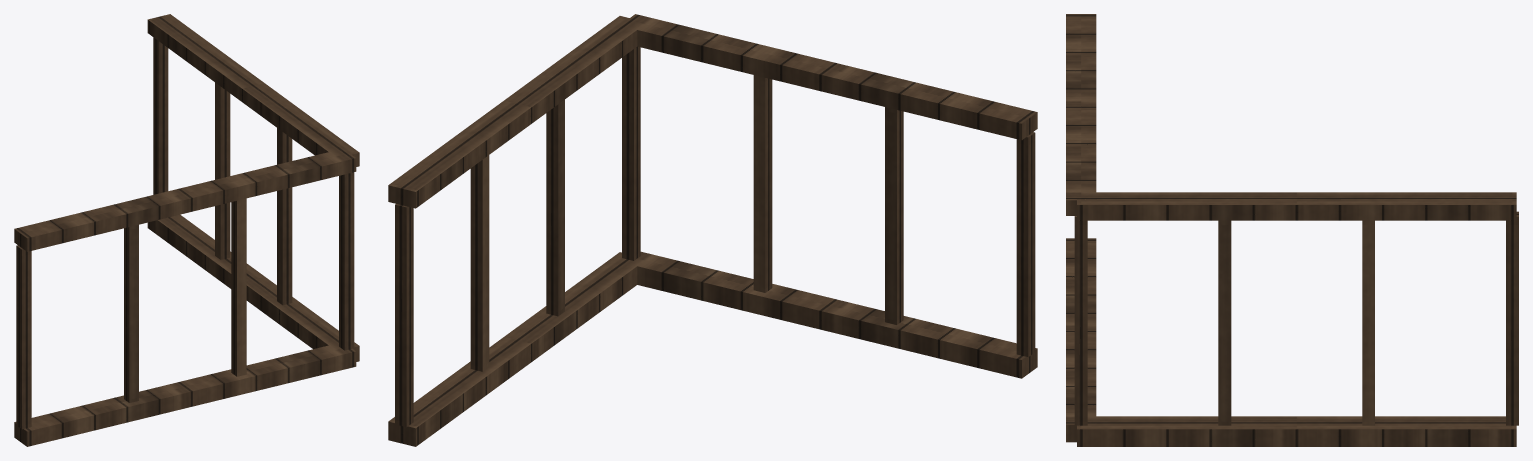
The model's file is Balcony_Simple_Corner_LOD2.gltf.
The picture shows the model from 3 angles, left to right: view 1: azimuth 30°, elevation 25°; view 2: azimuth 150°, elevation 25°; view 3: azimuth 270°, elevation 25°; orthographic projection. The views are drawn at different scales.
Visible parts, largest first — view 1: Balcony_Simple_Corner_LOD2; view 2: Balcony_Simple_Corner_LOD2; view 3: Balcony_Simple_Corner_LOD2.
Boxes of the visible parts, <box> form: Balcony_Simple_Corner_LOD2: <box>14,14,359,446</box>; Balcony_Simple_Corner_LOD2: <box>388,14,1037,446</box>; Balcony_Simple_Corner_LOD2: <box>1066,14,1518,446</box>.
Size of the model in its own units: 2.09 by 1.23 by 2.09.
Materials: 1 (1 with a texture image).
